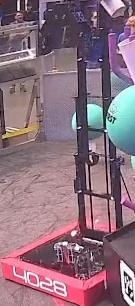red_number: (9, 264, 71, 301)
